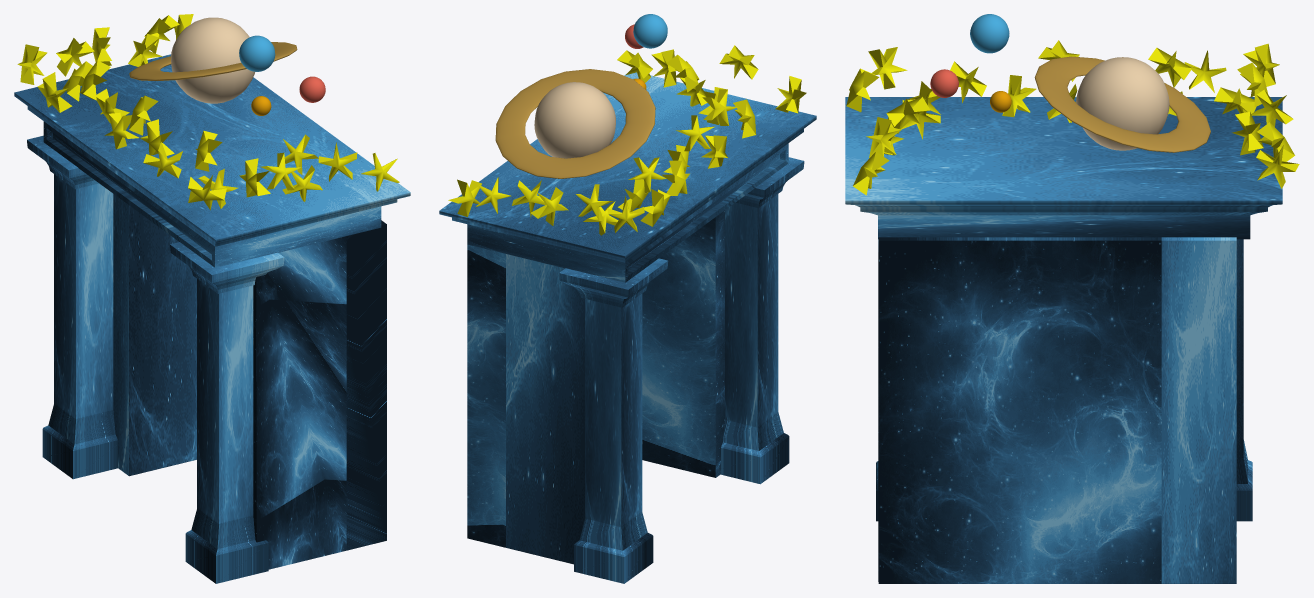
The model's file is space portale.fbx.
The picture shows the model from 3 angles, left to right: view 1: azimuth 30°, elevation 25°; view 2: azimuth 150°, elevation 25°; view 3: azimuth 270°, elevation 25°; orthographic projection. The views are drawn at different scales.
Parts seen in each view (by area): view 1: pCube34, pCube6, pCube2, pCube1, pSphere1, pTorus1, pSphere2, pCylinder4, pCylinder15, pCylinder5, pCylinder6, pCylinder8 (+14 smaller); view 2: pCube34, pCube6, pCube1, pCube2, pTorus1, pSphere1, pSphere2, pCylinder14, pCylinder5, pCylinder20, pCylinder6, pCylinder3 (+11 smaller); view 3: pCube34, pCube6, pSphere1, pTorus1, pCube1, pSphere2, pCylinder10, pCylinder5, pCylinder16, pCylinder7, pCylinder20, pCylinder17 (+10 smaller).
Part boxes in pixels (x1,y1,x2,y2): pCube34: (113, 194, 386, 569); pCube6: (14, 54, 410, 267); pCube2: (170, 242, 284, 583); pCube1: (27, 135, 117, 479); pSphere1: (171, 17, 254, 103); pTorus1: (129, 42, 297, 80); pSphere2: (239, 35, 275, 71); pCylinder4: (17, 44, 47, 84); pCylinder15: (56, 38, 94, 76); pCylinder5: (188, 175, 226, 210); pCylinder6: (195, 130, 222, 171); pCylinder8: (239, 158, 270, 197); pCube34: (467, 210, 724, 564); pCube6: (439, 72, 816, 282); pCube1: (559, 258, 668, 583); pCube2: (721, 157, 804, 484); pTorus1: (495, 69, 655, 178); pSphere1: (534, 82, 615, 158); pSphere2: (633, 14, 667, 48); pCylinder14: (719, 45, 758, 79); pCylinder5: (775, 76, 806, 113); pCylinder20: (448, 179, 481, 216); pCylinder6: (702, 89, 738, 125); pCylinder3: (531, 187, 568, 225); pCube34: (878, 237, 1236, 583); pCube6: (845, 97, 1282, 239); pSphere1: (1076, 57, 1169, 150); pTorus1: (1034, 56, 1210, 152); pCube1: (1236, 239, 1252, 521); pSphere2: (970, 14, 1009, 53); pCylinder10: (1148, 47, 1192, 87); pCylinder5: (868, 47, 907, 89); pCylinder16: (1232, 111, 1263, 155); pCylinder7: (866, 117, 901, 157); pCylinder20: (1256, 145, 1299, 188); pCylinder17: (886, 97, 930, 133).
Bounding box in the file's own units: 126 × 280 × 219.
